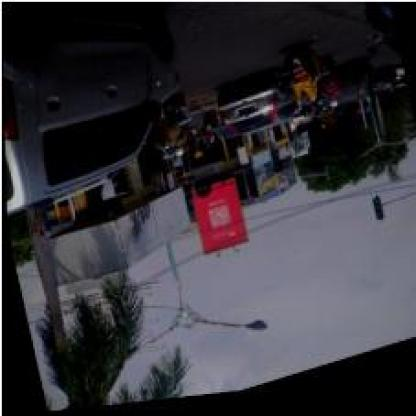green: (268, 152, 282, 178), (370, 203, 381, 229)
